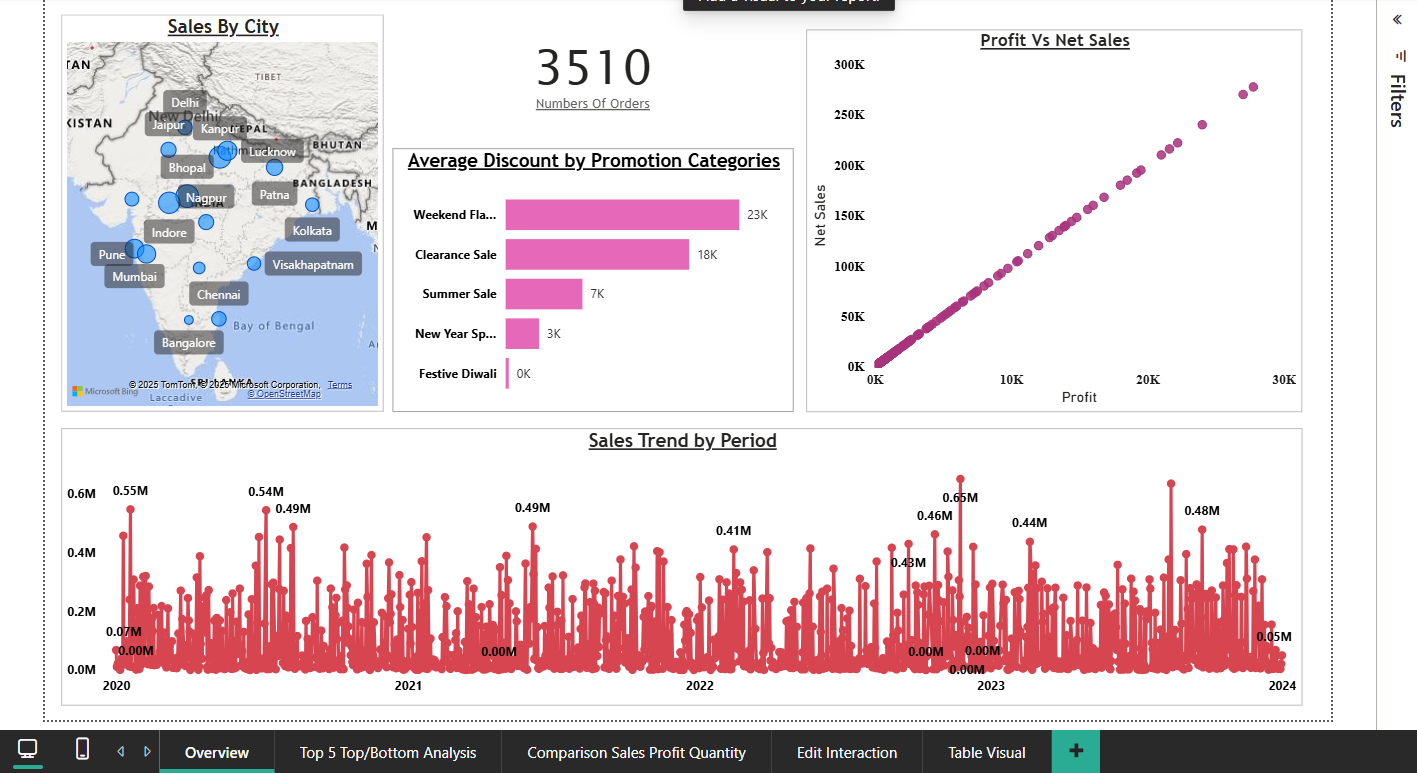

The page's visual inventory and layout, read from the dashboard file:
{"tool":"powerbi","page":{"name":"Overview","canvas":[1280,720],"ordinal":0},"visuals":[{"type":"lineChart","title":"Sales Trend by Period","fields":{"Y":["Sum(Fact Table.Net Sales)"],"Category":["Fact Table.Date (dd/mm/yyyy).Variation.Date Hierarchy.Year"]},"box":[16.2,429.2,1235.3,276.2],"z":0},{"type":"scatterChart","title":"Profit Vs Net Sales","fields":{"X":["Fact Table.Profit"],"Y":["Fact Table.Net Sales"]},"box":[757.6,32.3,493.9,380.7],"z":1000},{"type":"barChart","title":"Average Discount by Promotion Categories","fields":{"Category":["Dim Promotion.Promotion Name"],"Y":["Avg(Fact Table.Discount Value)"]},"box":[345.8,150.5,399.3,262.5],"z":2000},{"type":"map","title":"Sales By City","fields":{"Category":["Dim Customers.City"],"Size":["Sum(Fact Table.Net Sales)"]},"box":[16.2,17.4,320.9,395.6],"z":3000},{"type":"card","fields":{"Values":["Count(Fact Table.Order ID)"]},"box":[345.8,17.4,399.3,115.7],"z":4000}]}

Visuals, with their boxes on the page's 1280x720 design canvas (x1, y1, x2, y2). These are canvas units, not pixel positions in the 1417x773 screenshot, which may show the page scaled, cropped or inside an application window:
"Sales Trend by Period" lineChart: Rect(16, 429, 1252, 705)
"Profit Vs Net Sales" scatterChart: Rect(758, 32, 1252, 413)
"Average Discount by Promotion Categories" barChart: Rect(346, 150, 745, 413)
"Sales By City" map: Rect(16, 17, 337, 413)
card - Count(Fact Table.Order ID): Rect(346, 17, 745, 133)
